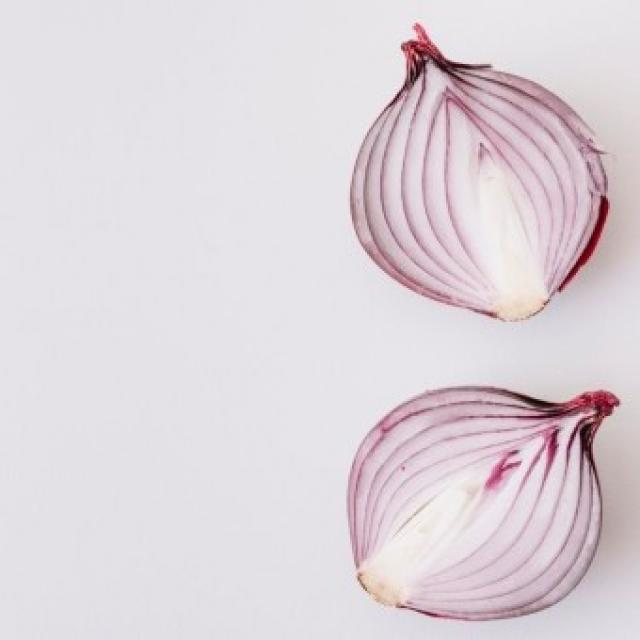onion: (330, 13, 632, 328), (321, 371, 632, 629)
